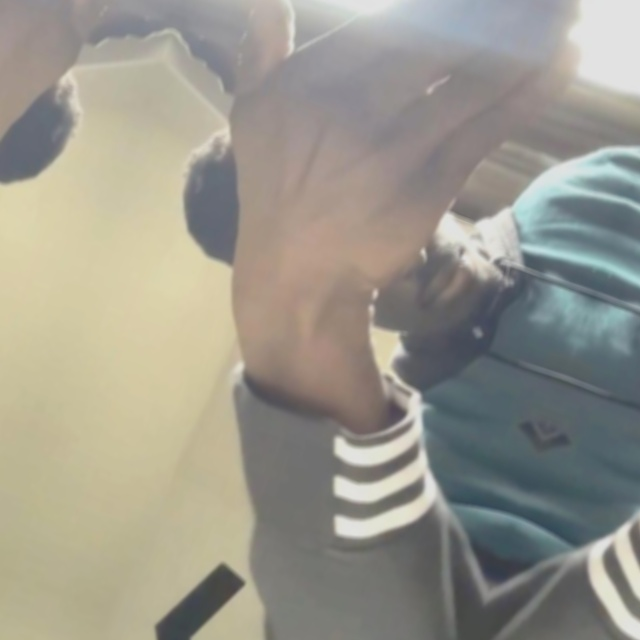Paper: (0, 0, 163, 193)
